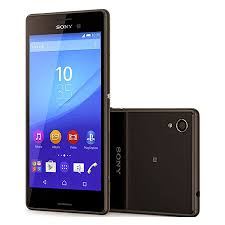sony: (24, 8, 111, 214)
